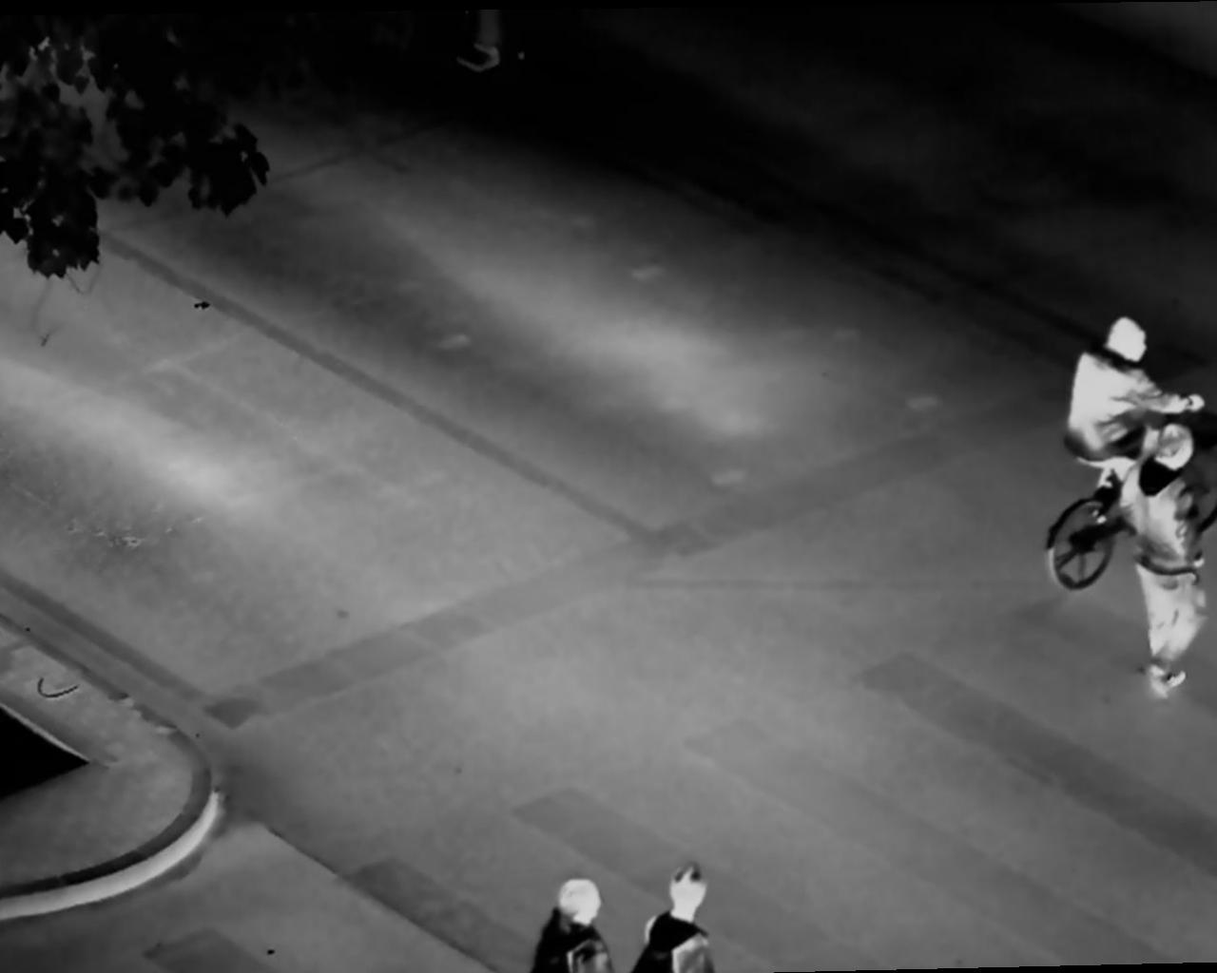person: (1063, 307, 1159, 566), (1132, 423, 1217, 697), (634, 855, 718, 973), (523, 867, 604, 973)
